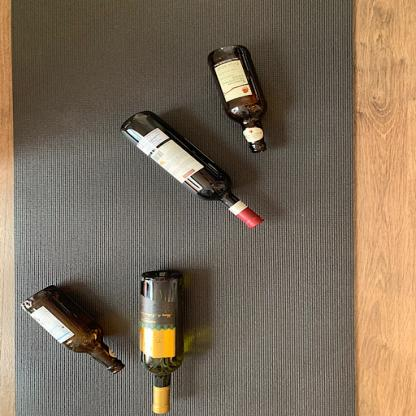trash: (109, 112, 265, 230), (18, 282, 126, 376), (132, 264, 194, 416), (206, 42, 268, 156)
